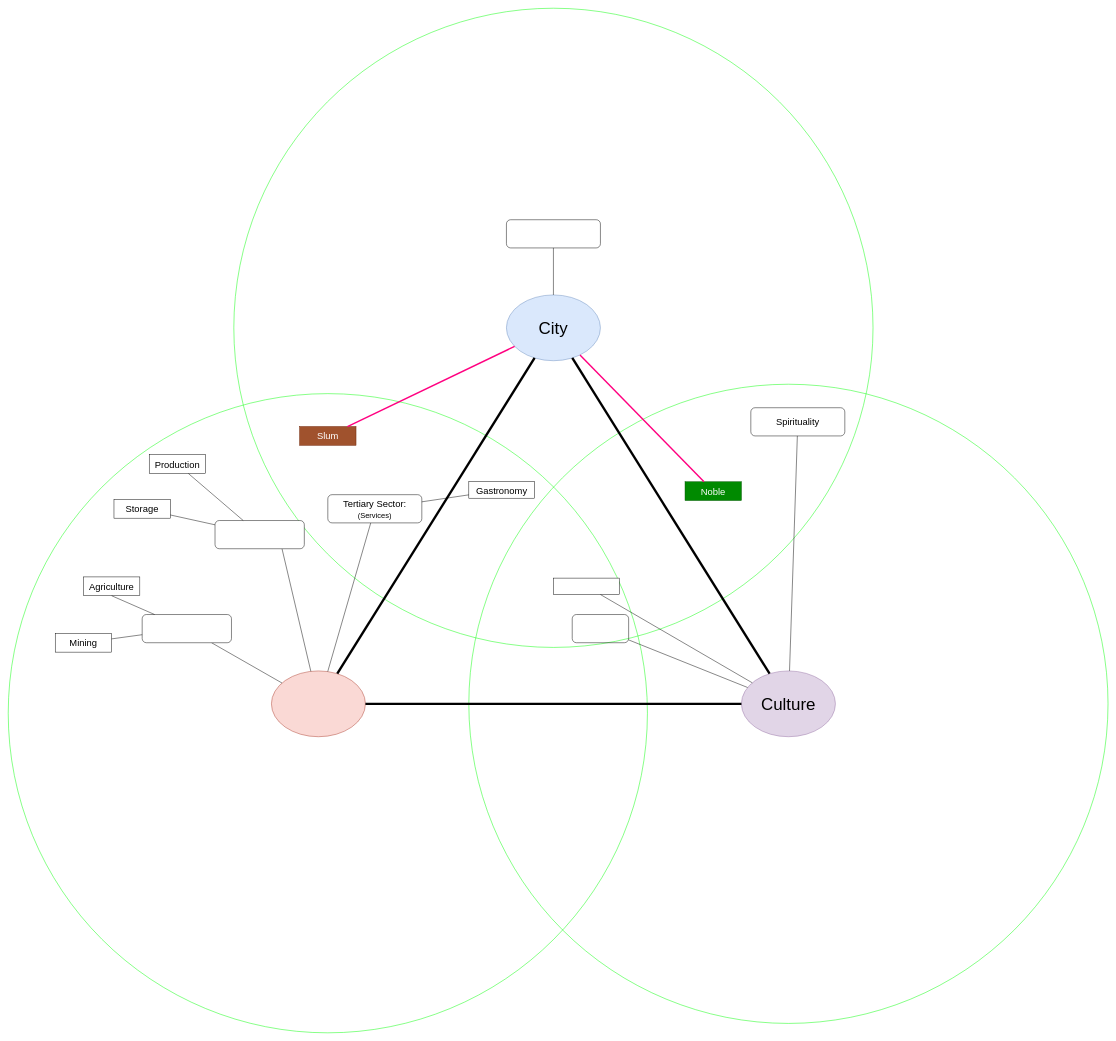
The diagram is 1116 pixels wide and 1041 high, and some of its shapes have lost their labels. Here are the shapes that lost their labels. From the top down, the centre of each, then its label:
At point 553,233: "Decorations".
At point 259,534: "Secondary Sector: (Manufacturing)".
At point 586,586: "Entertainment".
At point 186,628: "Primary Sector: (Raw Materials)".
At point 600,628: "Education".
At point 318,703: "Industry".
